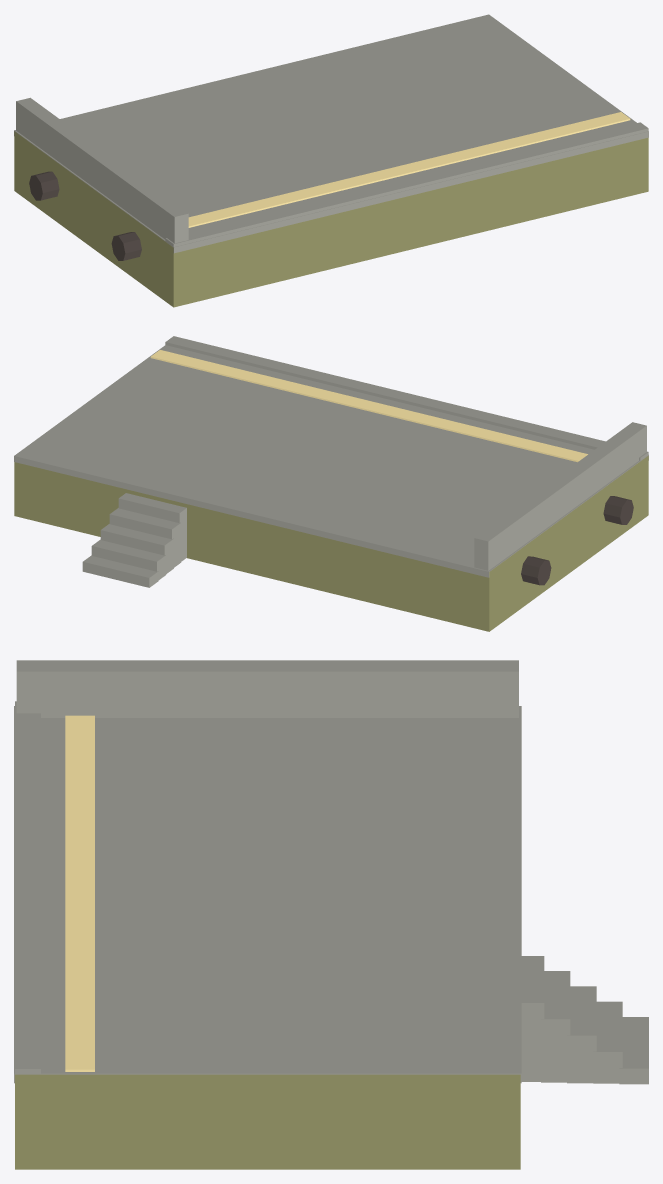
Rendered from SM_MuelleCarga_v4_LOD0.fbx.
The picture shows the model from 3 angles, top to bottom: view 1: azimuth 30°, elevation 25°; view 2: azimuth 150°, elevation 25°; view 3: azimuth 270°, elevation 25°; orthographic projection. The views are drawn at different scales.
Visible parts, largest first — view 1: SM_muelle_carga_v4_LOD0; view 2: SM_muelle_carga_v4_LOD0; view 3: SM_muelle_carga_v4_LOD0.
Part boxes in pixels (x1,y1,x2,y2): SM_muelle_carga_v4_LOD0: (14,14,648,307); SM_muelle_carga_v4_LOD0: (14,336,648,631); SM_muelle_carga_v4_LOD0: (14,660,648,1169).
Size of the model in its own units: 10.33 by 1.8 by 7.28.
